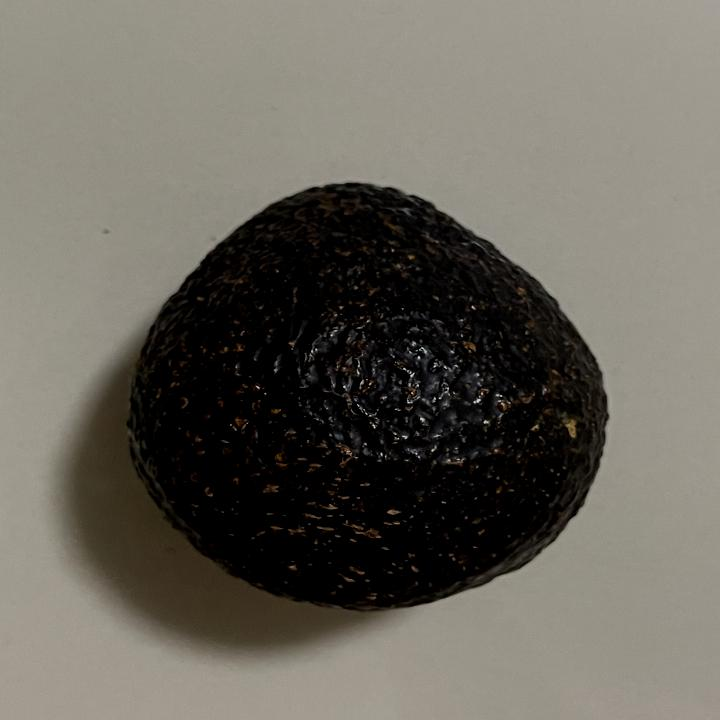Level2: (116, 175, 616, 619)
